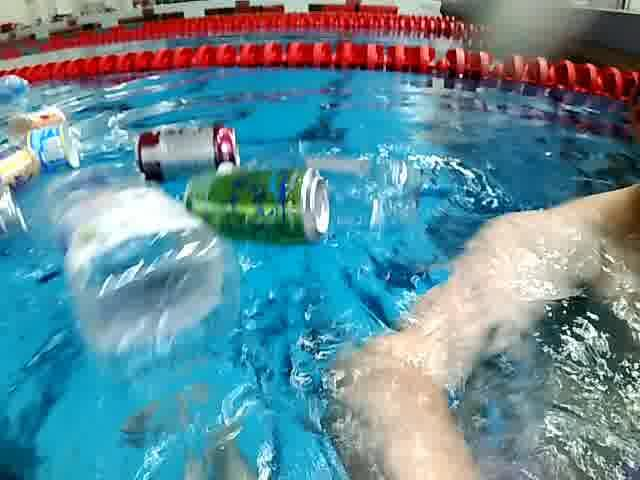Bottle: (46, 162, 225, 363), (0, 103, 134, 170)
Can: (179, 164, 332, 246), (134, 121, 240, 183)
